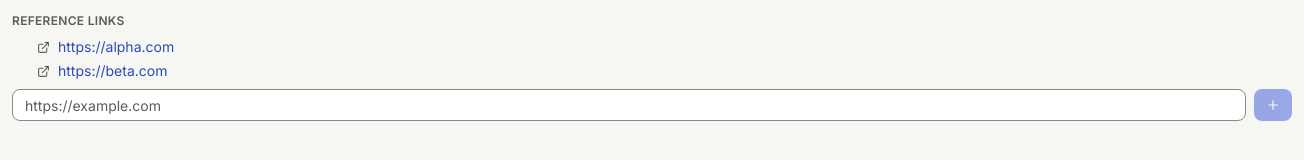
Test: ReferenceLinksSection › shows validation error for javascript: URL scheme
The image size is (1304, 160).
Type "javascript:alert(1)" into the field named "Add reference link URL". click: (629, 105)
box: [12,89,1246,121]
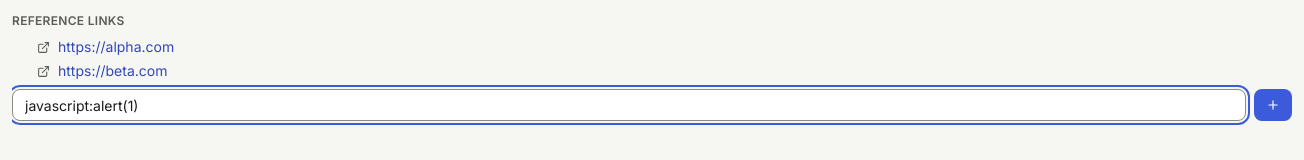
Press Enter
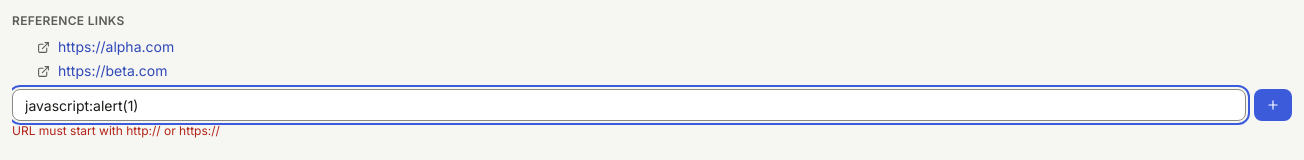
Expected: the message "URL must start with http:// or https://" is shown, [12,123,220,138]
